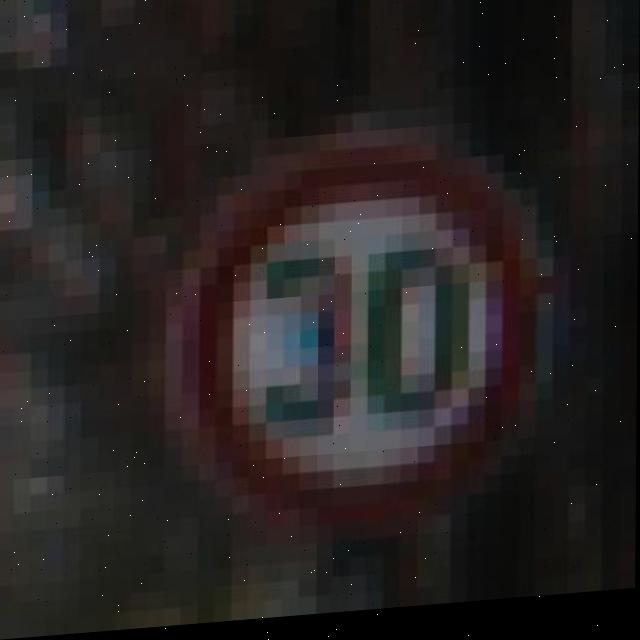Speed limit 30: (169, 121, 549, 541)
